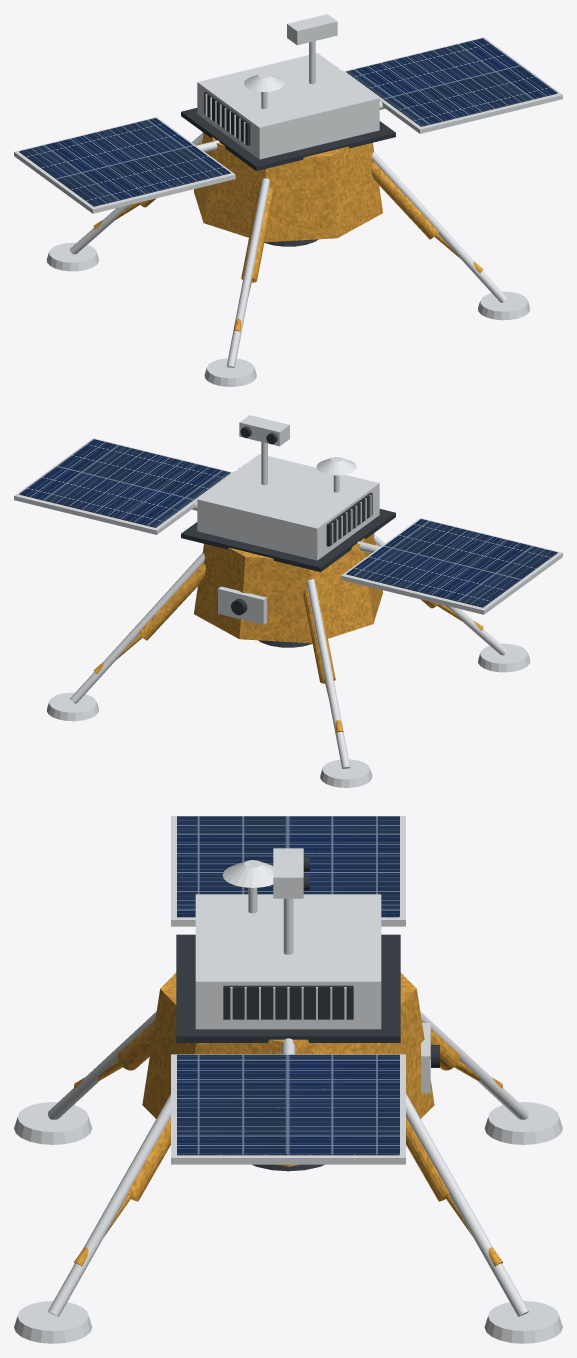
File: lander.glb
The picture shows the model from 3 angles, top to bottom: view 1: azimuth 30°, elevation 25°; view 2: azimuth 150°, elevation 25°; view 3: azimuth 270°, elevation 25°; orthographic projection. The views are drawn at different scales.
Visible parts, largest first — view 1: lander; view 2: lander; view 3: lander.
Part boxes in pixels (box(x1,y1,x2,y2)): lander: box(14, 14, 562, 386); lander: box(14, 415, 562, 787); lander: box(14, 816, 562, 1343).
Bounding box in the file's own units: 4.54 × 2.37 × 3.08.
4 materials, 2 textured.
